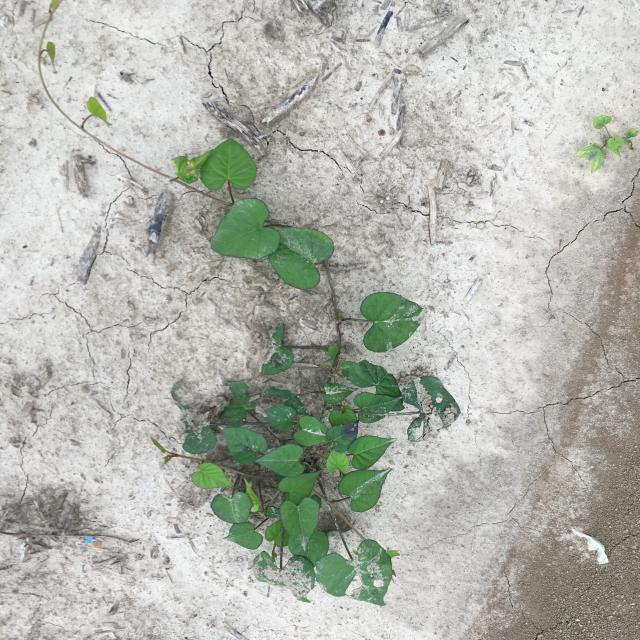MorningGlory: (38, 1, 460, 606), (573, 114, 640, 174)
